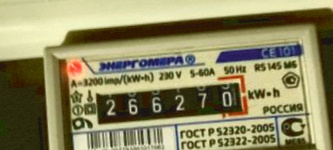0: (219, 89, 231, 110)
2: (102, 97, 118, 119), (172, 93, 186, 114)
6: (125, 97, 139, 118), (149, 95, 163, 115)
7: (195, 91, 208, 111)
screen: (81, 68, 258, 139)
